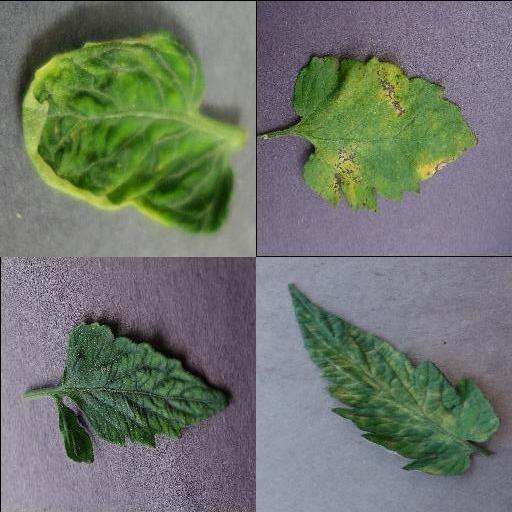Leaf Mold: (286, 283, 502, 472)
Mosaic Virus: (55, 318, 232, 464)
Septoria: (294, 54, 480, 214)
Yellow Leaf Curl Virus: (21, 32, 235, 234)
